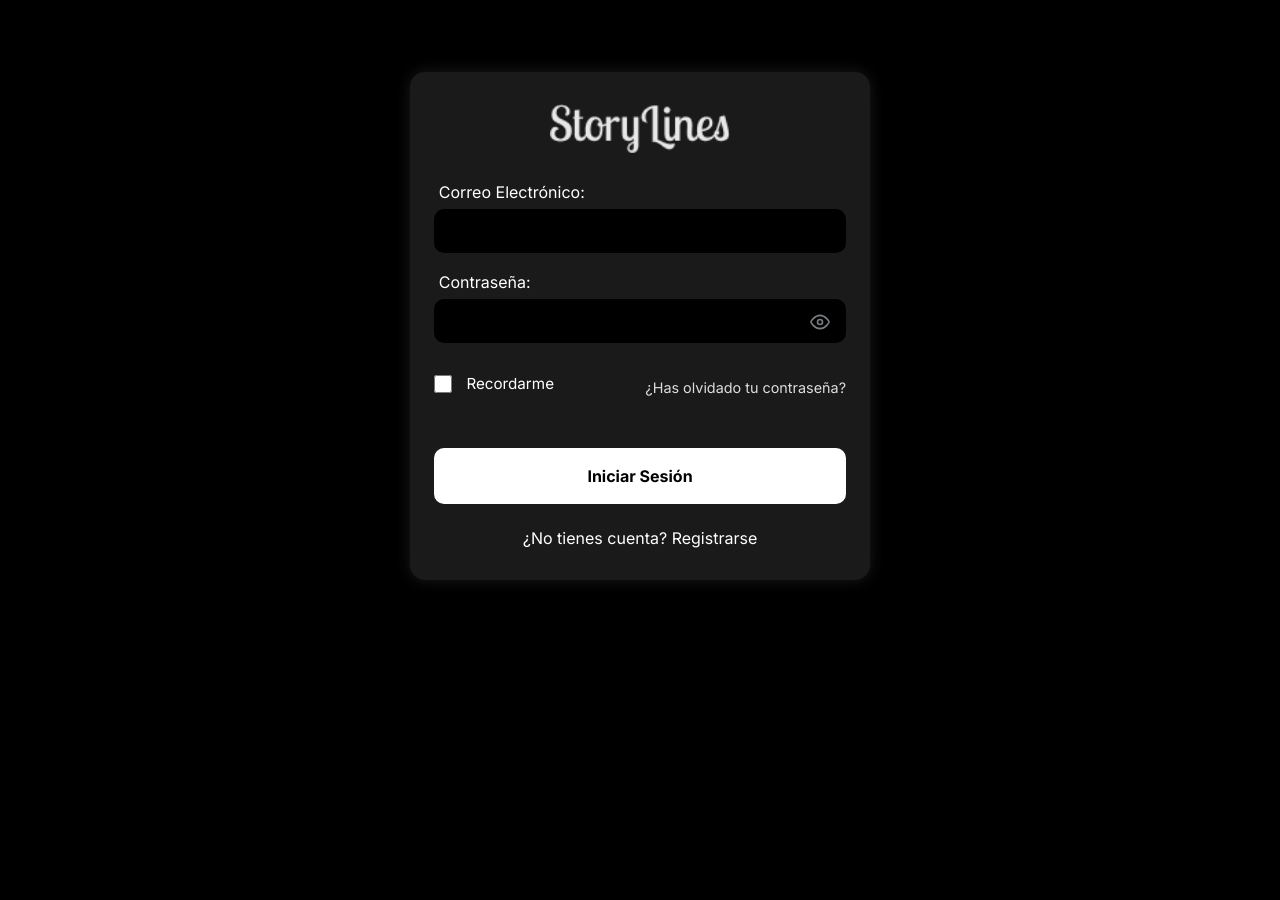
Scenario: Login.vue - cobertura 100% › reset password envía correo y muestra éxito
Click the text "¿Has olvidado tu contraseña?" at (746, 388), box 645,379 -> 846,396
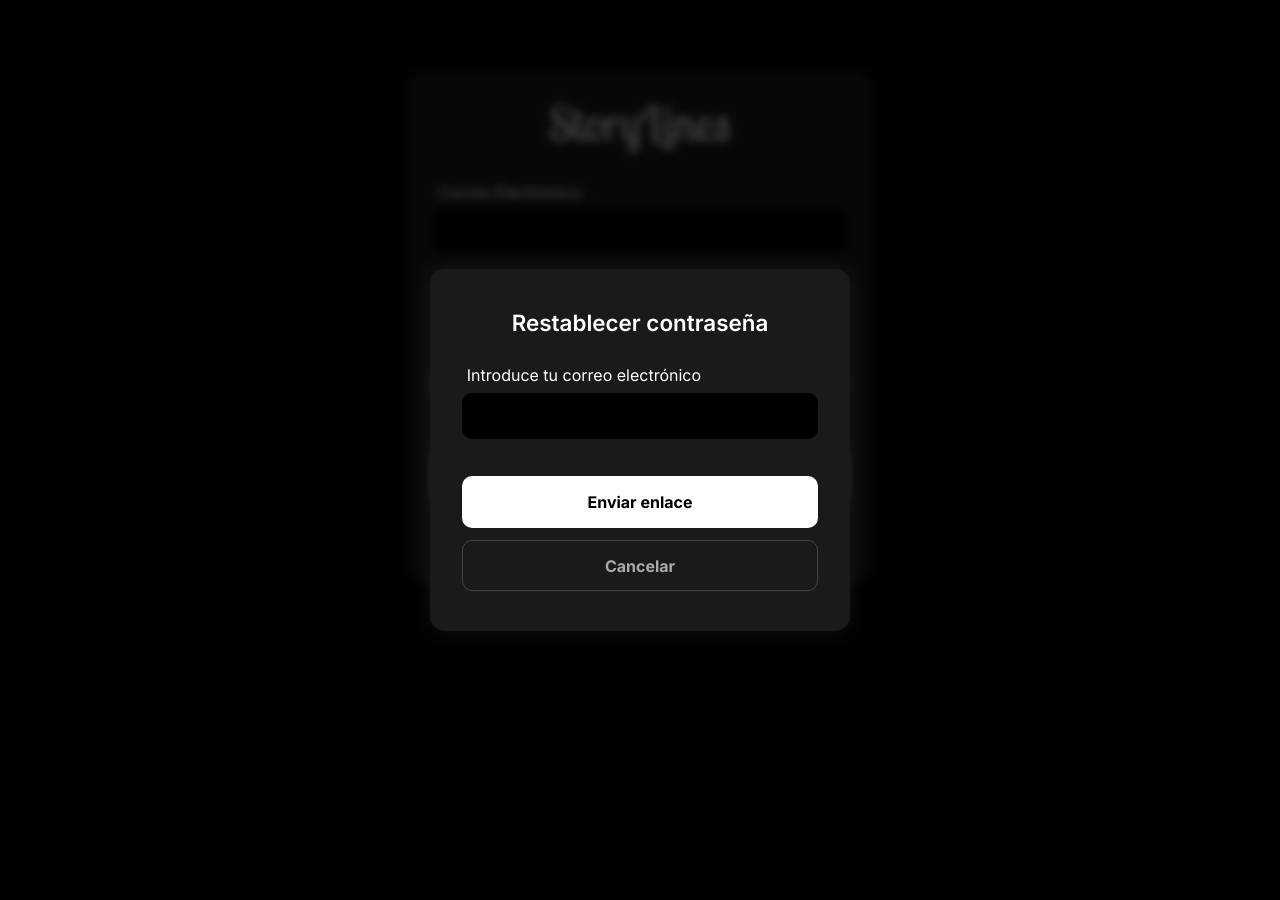
Type "a@mail.com" into the field labelled "Introduce tu correo electrónico" at (640, 416), box 462,393 -> 818,439
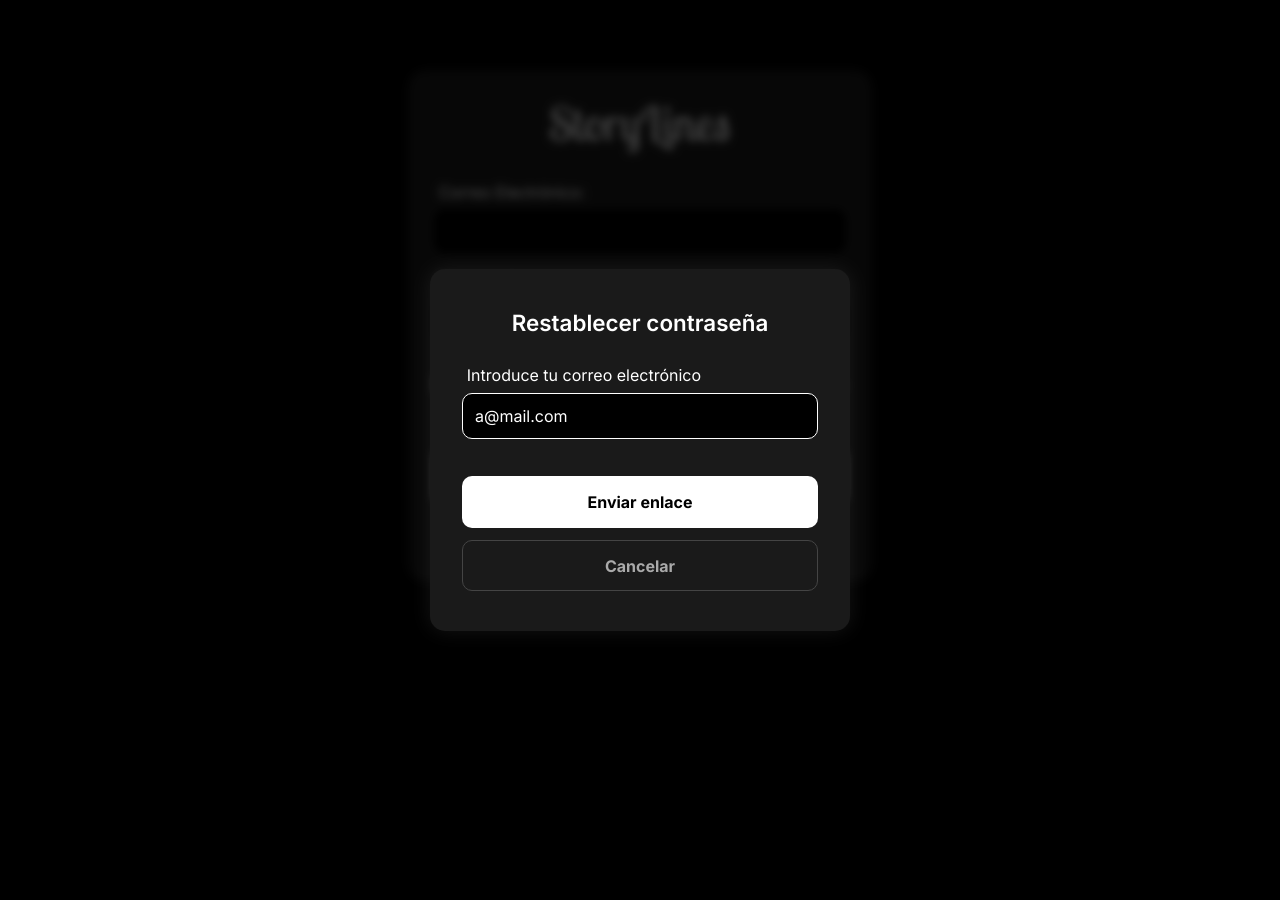
Click the button "Enviar enlace" at (640, 502), box 462,476 -> 818,528
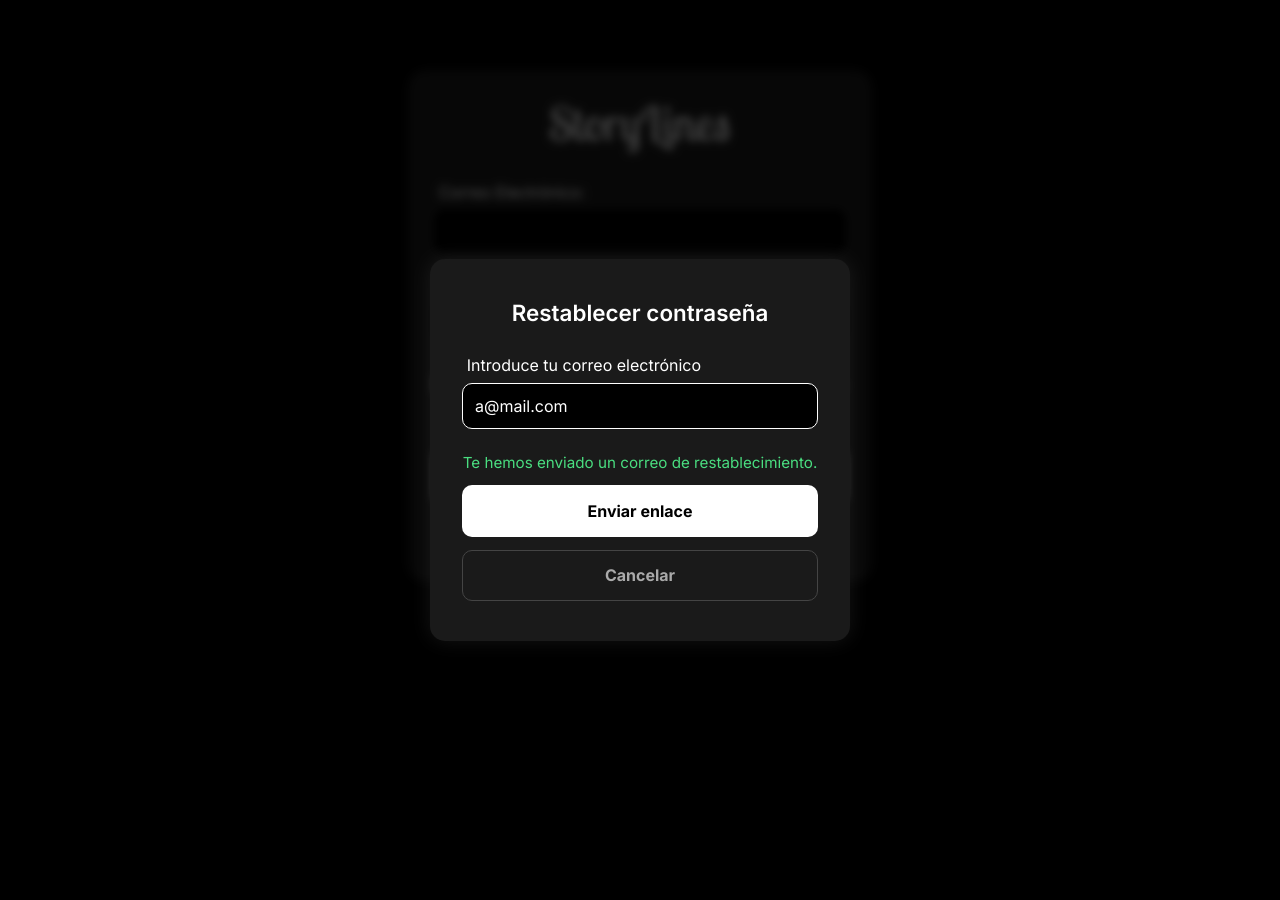
Check: the text "Te hemos enviado un correo de restablecimiento." is shown, box 462,453 -> 818,472
